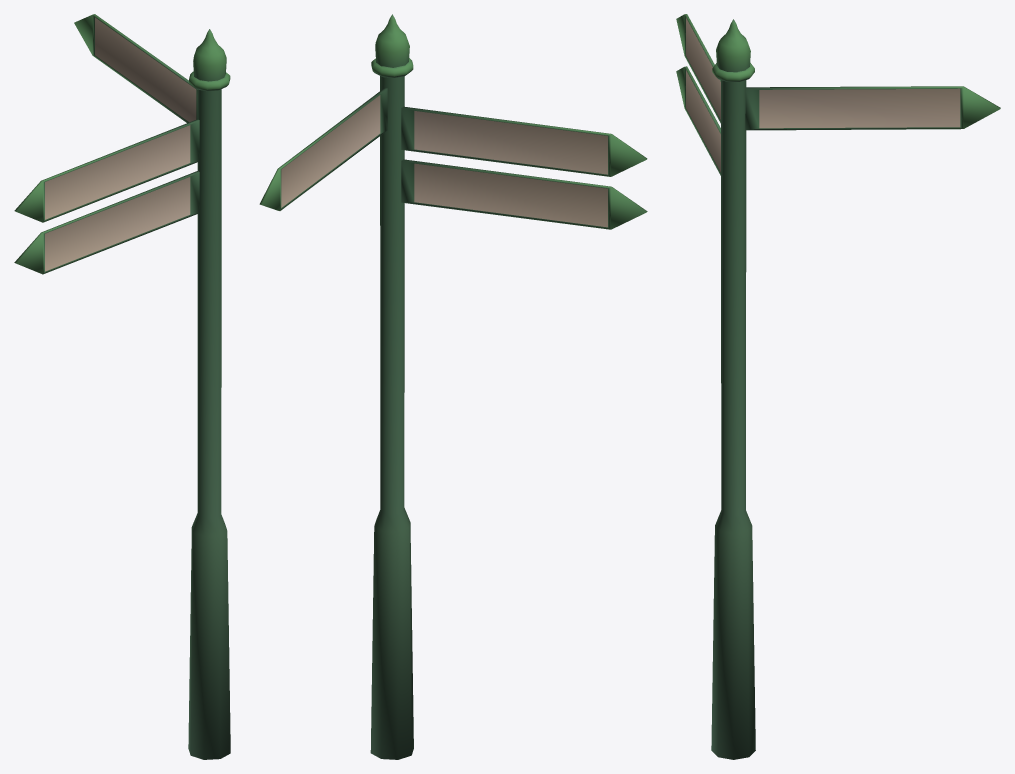
The model's file is furnishings-signs-signpost_v2.glb.
3 views of the same model, side by side, from view 1: azimuth 30°, elevation 25°; view 2: azimuth 150°, elevation 25°; view 3: azimuth 270°, elevation 25° (orthographic).
Visible parts, largest first — view 1: Signpost_v2; view 2: Signpost_v2; view 3: Signpost_v2.
Part boxes in pixels (bbox=[...]): Signpost_v2: bbox=[14, 14, 230, 759]; Signpost_v2: bbox=[259, 14, 647, 759]; Signpost_v2: bbox=[676, 14, 1000, 759].
Size of the model in its own units: 0.9994 by 2.88 by 1.15.
